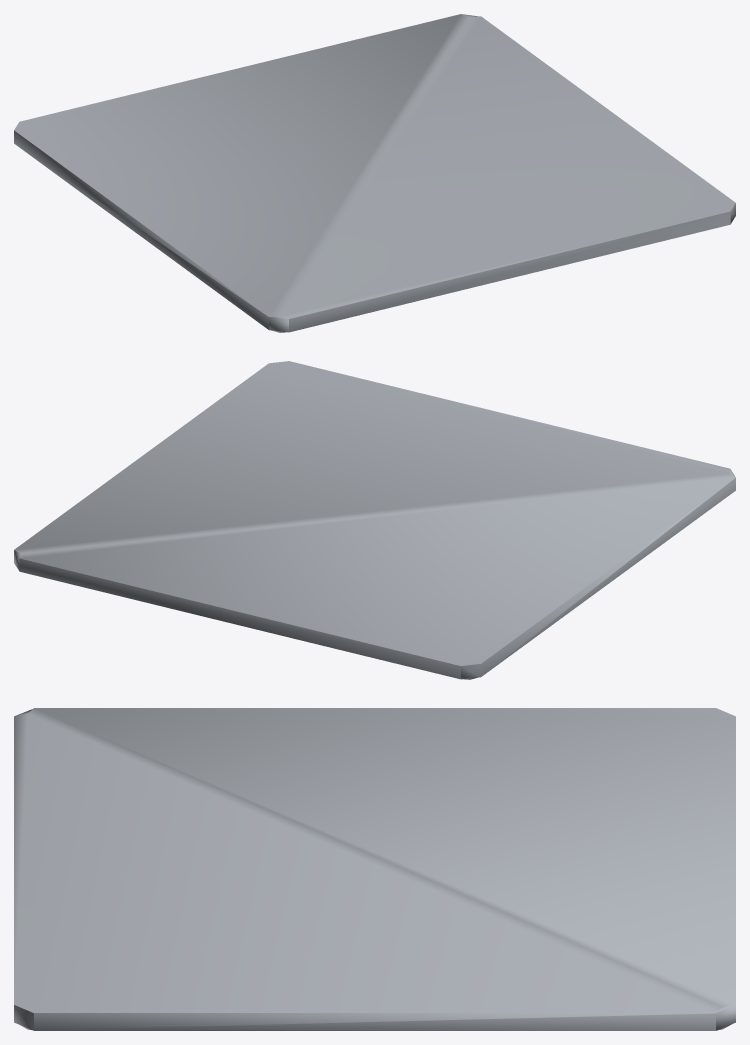
Rendered from SM_Prop_AirConditioner.fbx.
3 renders of one model, top to bottom at view 1: azimuth 30°, elevation 25°; view 2: azimuth 150°, elevation 25°; view 3: azimuth 270°, elevation 25°, orthographic. The views are drawn at different scales.
Visible parts, largest first — view 1: SM_Prop_AirConditioner; view 2: SM_Prop_AirConditioner; view 3: SM_Prop_AirConditioner.
Boxes of the visible parts, x1,y1,x2,y2 form: SM_Prop_AirConditioner: (14,14,735,332); SM_Prop_AirConditioner: (14,361,735,679); SM_Prop_AirConditioner: (14,708,735,1030).
Bounding box in the file's own units: 94.61 × 8.35 × 94.61.
Materials: 1 (1 with a texture image).
